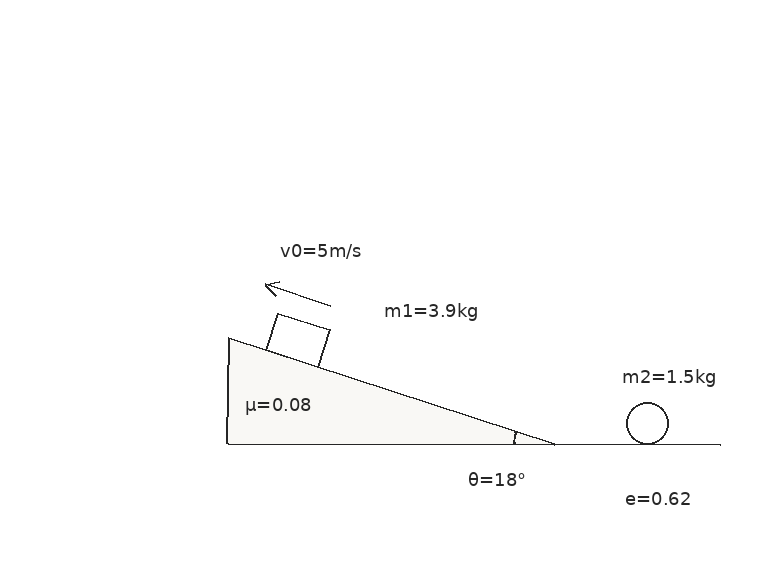ball: (624, 400, 670, 446)
block: (264, 311, 331, 369)
ramp: (227, 336, 556, 446)
